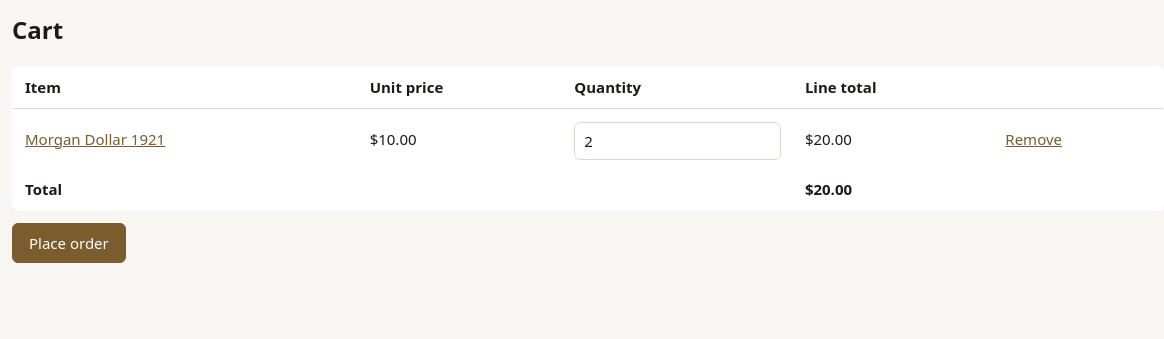
Scenario: Cart checkout › keeps the cart and says so when a price changed before checkout
Click the button "Place order" at (69,243), box [12, 222, 126, 263]
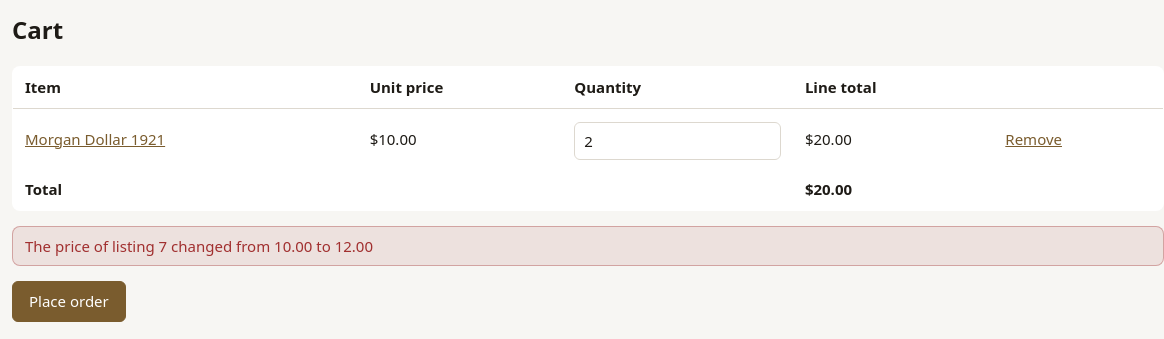
Expected: the button "Place order" is enabled, [12, 281, 126, 322]
Expected: the text "The price of listing 7 changed from 10.00 to 12.00" is shown, [12, 226, 1163, 266]
